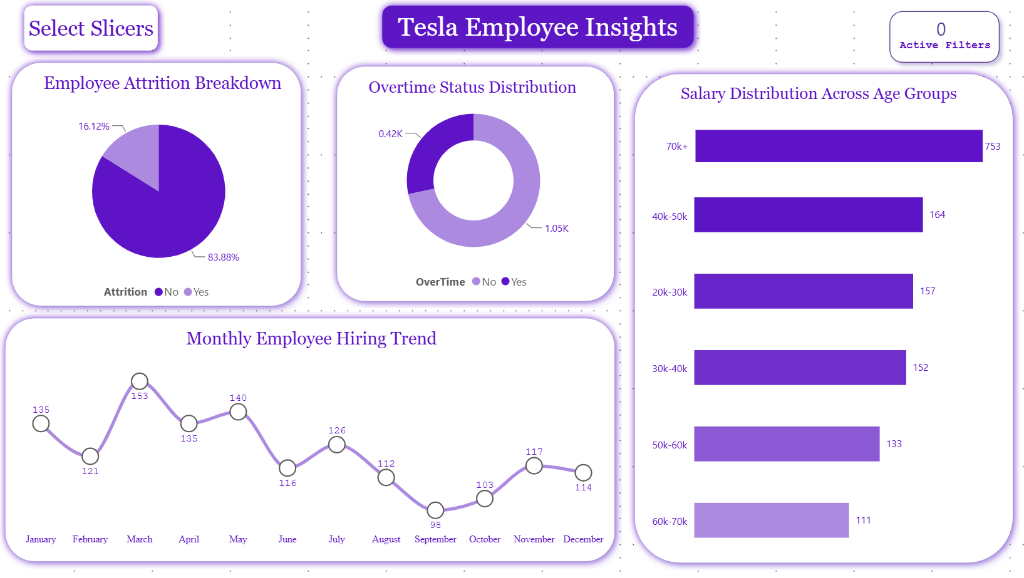

The page's visual inventory and layout, read from the dashboard file:
{"tool":"powerbi","page":{"name":"Main","canvas":[1280,720],"ordinal":0},"visuals":[{"type":"group","id":"g1","title":"Pie","box":[10.4,64.7,374.7,323.4],"z":0},{"type":"shape","box":[10.4,70.9,373.6,317.2],"z":0,"group":"g1"},{"type":"shape","box":[411.1,75.2,359,306.8],"z":0,"group":"g3"},{"type":"shape","box":[777.6,84.8,483.2,619.6],"z":0,"group":"g2"},{"type":"shape","box":[2.2,384.7,768,317.2],"z":500,"group":"g4"},{"type":"shape","box":[1091.3,6.4,153.6,81.6],"z":1000,"group":"g6"},{"type":"group","id":"g2","title":"Bar chart","box":[777.6,84.8,483.2,620.8],"z":1000},{"type":"donutChart","fields":{"Category":["Employee.OverTime"],"Y":["CountNonNull(Employee.EmployeeID)"]},"box":[404.8,109.4,364.8,252.8],"z":1000,"group":"g3"},{"type":"pieChart","fields":{"Category":["Employee.Attrition"],"Y":["CountNonNull(Employee.EmployeeID)"]},"box":[13.7,123.7,371.5,256.7],"z":1000,"group":"g1"},{"type":"clusteredBarChart","fields":{"Category":["Employee.Salary Range"],"Y":["CountNonNull(Employee.EmployeeID)"]},"box":[798.1,194.2,443.6,511.4],"z":1000,"group":"g2"},{"type":"shape","box":[181.3,389.6,413.2,58.4],"z":1000,"group":"g4"},{"type":"shape","box":[1107.3,40,123.2,35.2],"z":1500,"group":"g6"},{"type":"lineChart","fields":{"Category":["Employee.HireDate.Variation.Date Hierarchy.Month"],"Y":["CountNonNull(Employee.EmployeeID)"]},"box":[25,436.2,730.4,244.2],"z":1500,"group":"g4"},{"type":"actionButton","box":[1078.5,0,171.2,73.6],"z":2000,"group":"g6"},{"type":"shape","box":[34.5,64.7,340.2,79.3],"z":2000,"group":"g1"},{"type":"group","id":"g3","title":"donut","box":[404.8,75.2,364.8,305.6],"z":2000},{"type":"shape","box":[433.9,83.6,305.5,52.4],"z":2000,"group":"g3"},{"type":"clusteredBarChart","fields":{"Category":["Employee.Salary Range"],"Y":["CountNonNull(Employee.EmployeeID)"]},"box":[817,85.3,424.7,187.8],"z":2000,"group":"g2"},{"type":"shape","box":[818.1,87.3,390.3,60.5],"z":3000,"group":"g2"},{"type":"group","id":"g4","title":"linechart","box":[2.2,384.7,768,317.2],"z":3000},{"type":"shape","box":[25.6,0,182.4,73.6],"z":4000},{"type":"group","id":"g5","title":"Group 1","box":[0,0,1279.3,717.9],"z":6000},{"type":"group","id":"g6","title":"Group 3","box":[1078.5,0,171.2,88],"z":7000},{"type":"shape","box":[465.6,0,401.6,70.4],"z":11000}]}

Visuals, with their boxes in screenshot pixels (x1, y1, x2, y2), scaled from the page's 1280x720 canvas onto the 1024x578 screenshot:
"Pie" group: [8, 52, 308, 312]
shape: [8, 57, 307, 312]
shape: [329, 60, 616, 307]
shape: [622, 68, 1009, 565]
shape: [2, 309, 616, 563]
shape: [873, 5, 996, 71]
"Bar chart" group: [622, 68, 1009, 566]
donutChart - Employee.OverTime x CountNonNull(Employee.EmployeeID): [324, 88, 616, 291]
pieChart - Employee.Attrition x CountNonNull(Employee.EmployeeID): [11, 99, 308, 305]
clusteredBarChart - Employee.Salary Range x CountNonNull(Employee.EmployeeID): [638, 156, 993, 566]
shape: [145, 313, 476, 360]
shape: [886, 32, 984, 60]
lineChart - Employee.HireDate.Variation.Date Hierarchy.Month x CountNonNull(Employee.EmployeeID): [20, 350, 604, 546]
actionButton: [863, 0, 1000, 59]
shape: [28, 52, 300, 116]
"donut" group: [324, 60, 616, 306]
shape: [347, 67, 592, 109]
clusteredBarChart - Employee.Salary Range x CountNonNull(Employee.EmployeeID): [654, 68, 993, 219]
shape: [654, 70, 967, 119]
"linechart" group: [2, 309, 616, 563]
shape: [20, 0, 166, 59]
"Group 1" group: [0, 0, 1023, 576]
"Group 3" group: [863, 0, 1000, 71]
shape: [372, 0, 694, 57]
